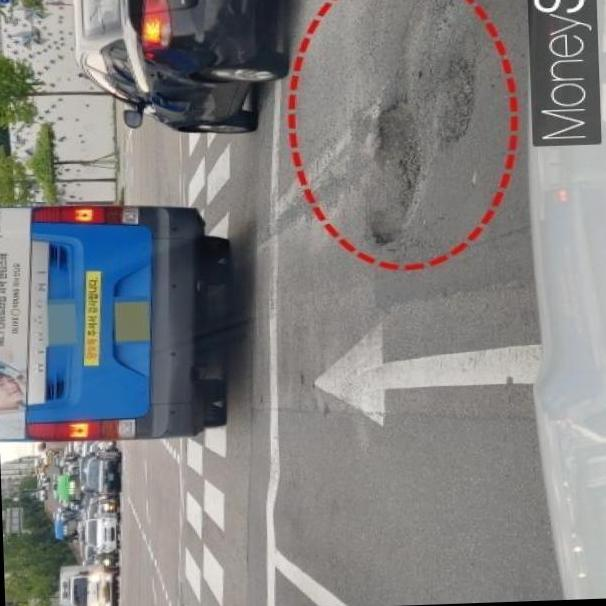pothole: (341, 92, 425, 246), (430, 50, 492, 152)
